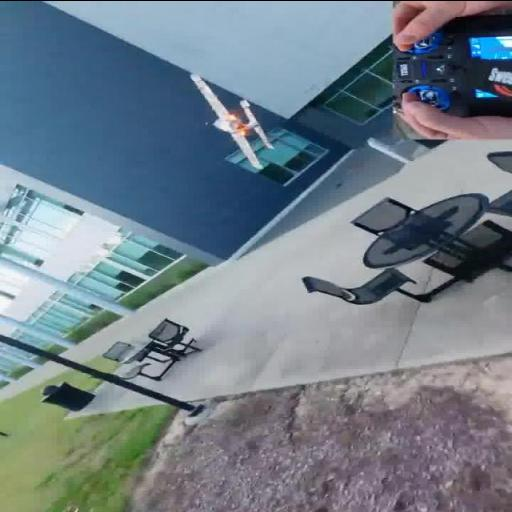uav: (184, 68, 282, 172)
